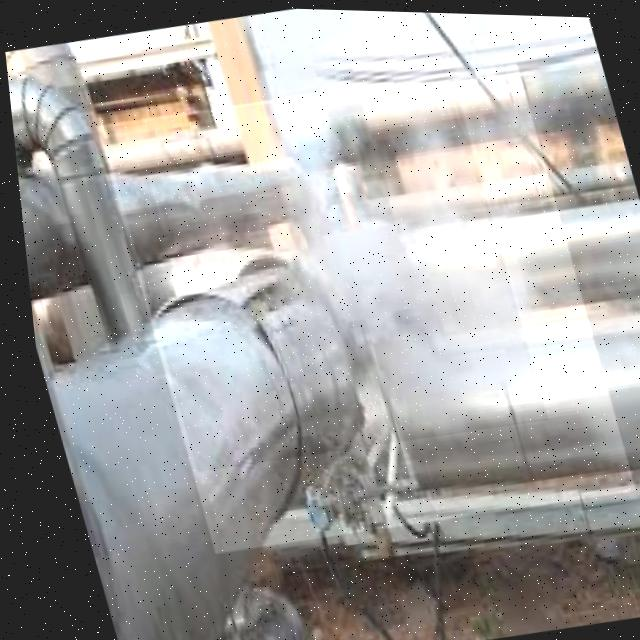corrosion: (101, 75, 548, 472)
